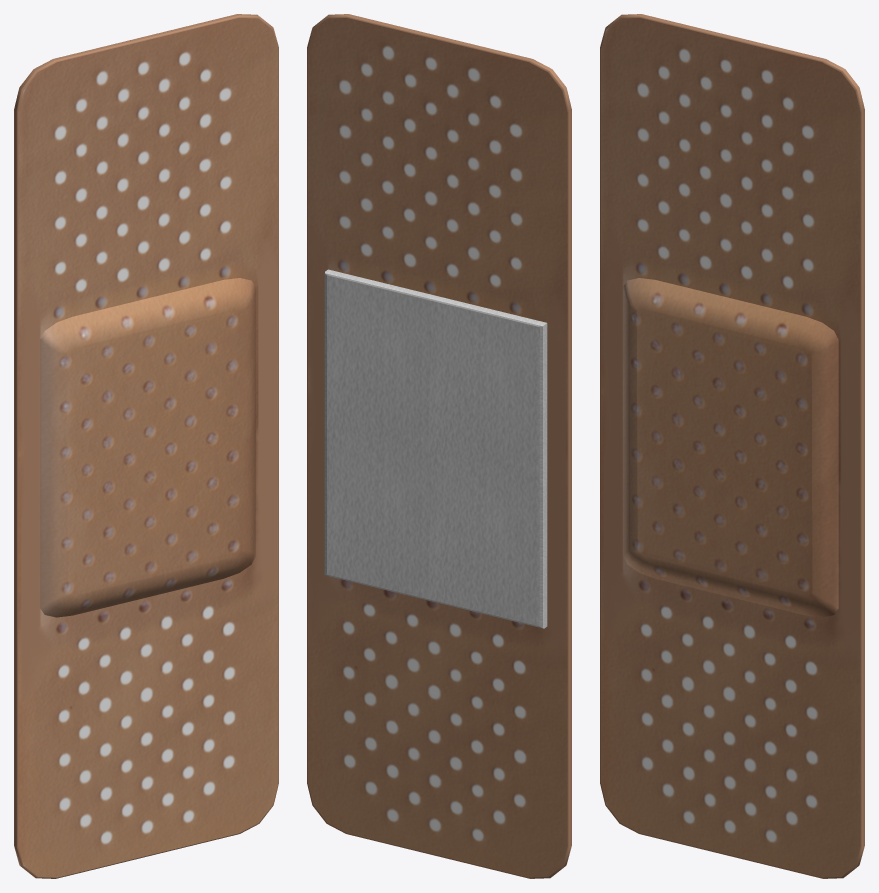
3 views of the same model, side by side, from view 1: azimuth 30°, elevation 25°; view 2: azimuth 150°, elevation 25°; view 3: azimuth 330°, elevation 25° (orthographic).
Visible parts, largest first — view 1: bandaid; view 2: bandaid; view 3: bandaid.
Boxes of the visible parts, <box> form: bandaid: <box>14,14,278,878</box>; bandaid: <box>307,14,571,878</box>; bandaid: <box>600,14,864,878</box>.
Size of the model in its own units: 1.91 by 5.69 by 0.1788.
1 material, 1 textured.
